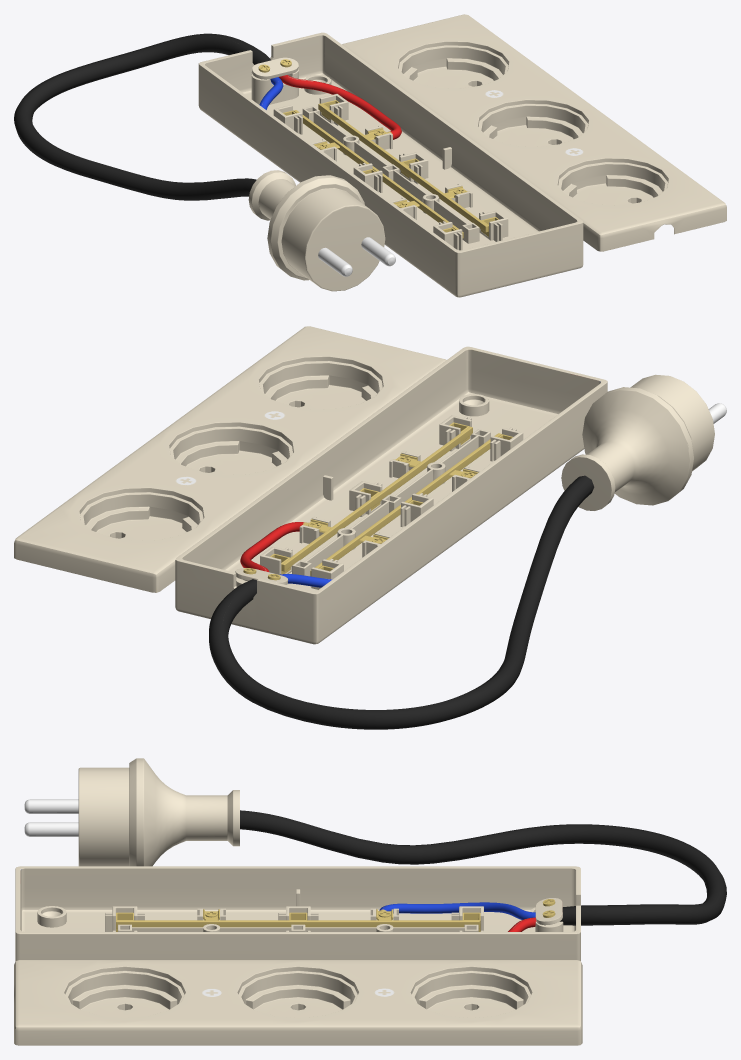
Rendered from extension_cord.glb.
The picture shows the model from 3 angles, top to bottom: view 1: azimuth 30°, elevation 25°; view 2: azimuth 150°, elevation 25°; view 3: azimuth 270°, elevation 25°; orthographic projection. The views are drawn at different scales.
Visible parts, largest first — view 1: pCube3; view 2: pCube3; view 3: pCube3.
Boxes of the visible parts, left/top/right/bottom form: pCube3: left=14, top=14, right=726, bottom=297; pCube3: left=14, top=326, right=726, bottom=729; pCube3: left=14, top=758, right=726, bottom=1045.
Size of the model in its own units: 0.2172 by 0.052 by 0.284.
Materials: 1 (1 with a texture image).
